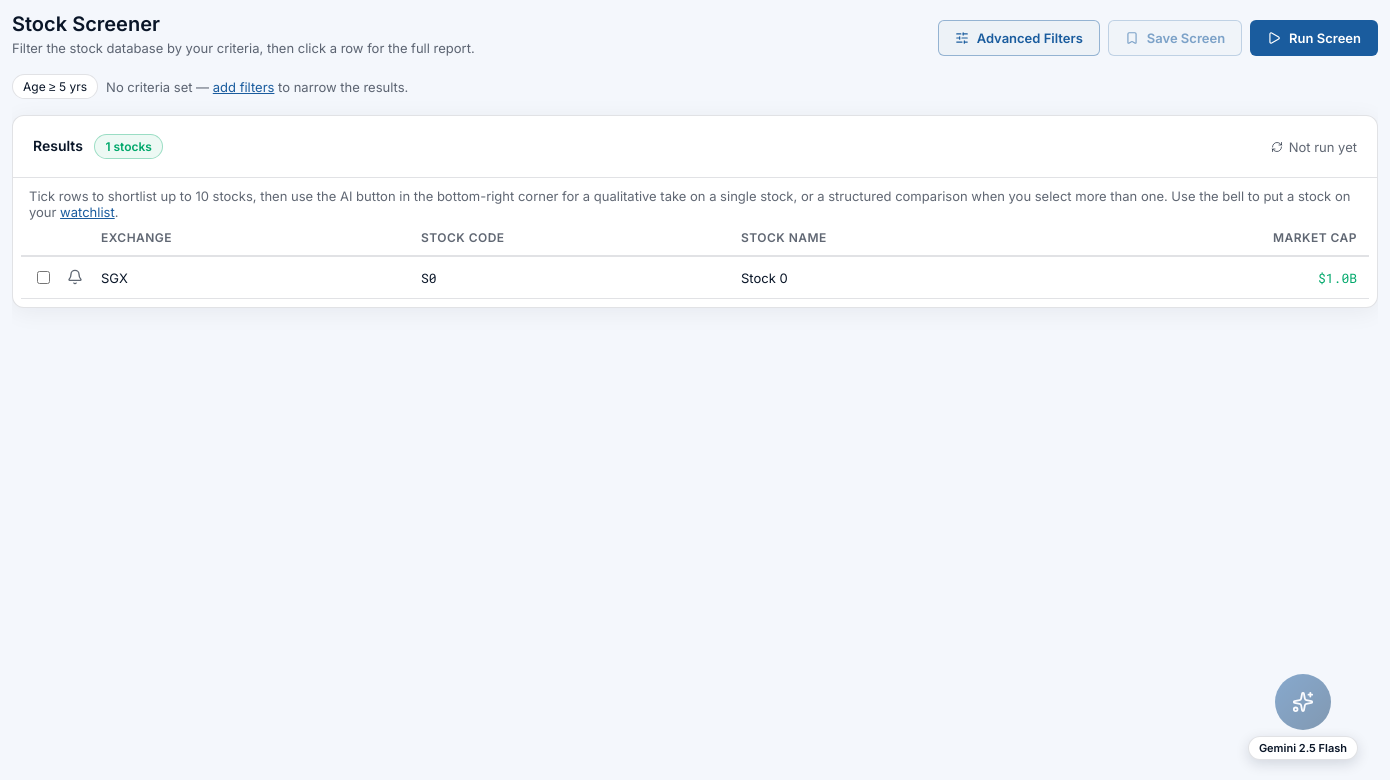
Screener - Analyze with AI › shows an inline error, preserving the message, when the AI request fails
The image size is (1390, 780).
Click the checkbox named "Select Stock 0" at (44, 278), box [37, 271, 50, 284]
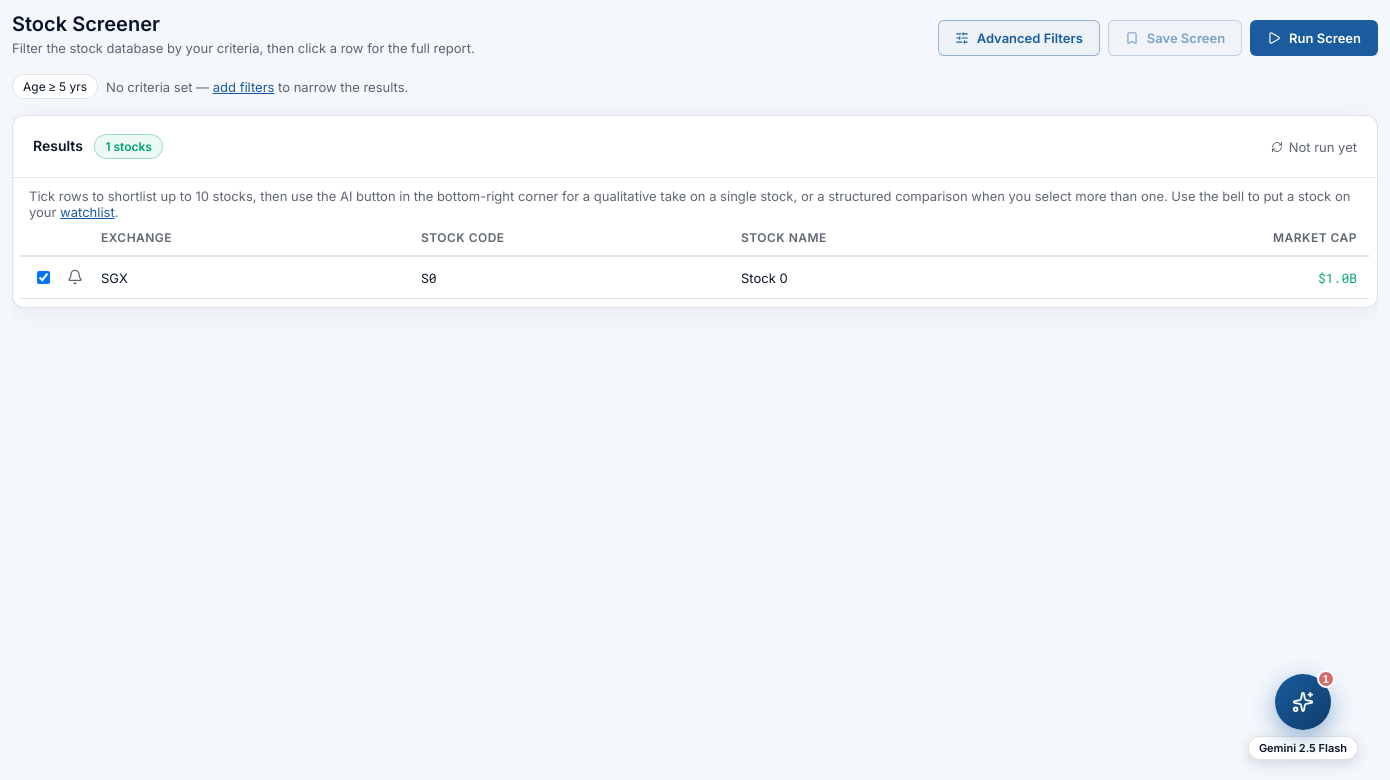
Click the button named "analyze 1 selected stock with ai" at (1303, 702), box [1275, 674, 1331, 730]
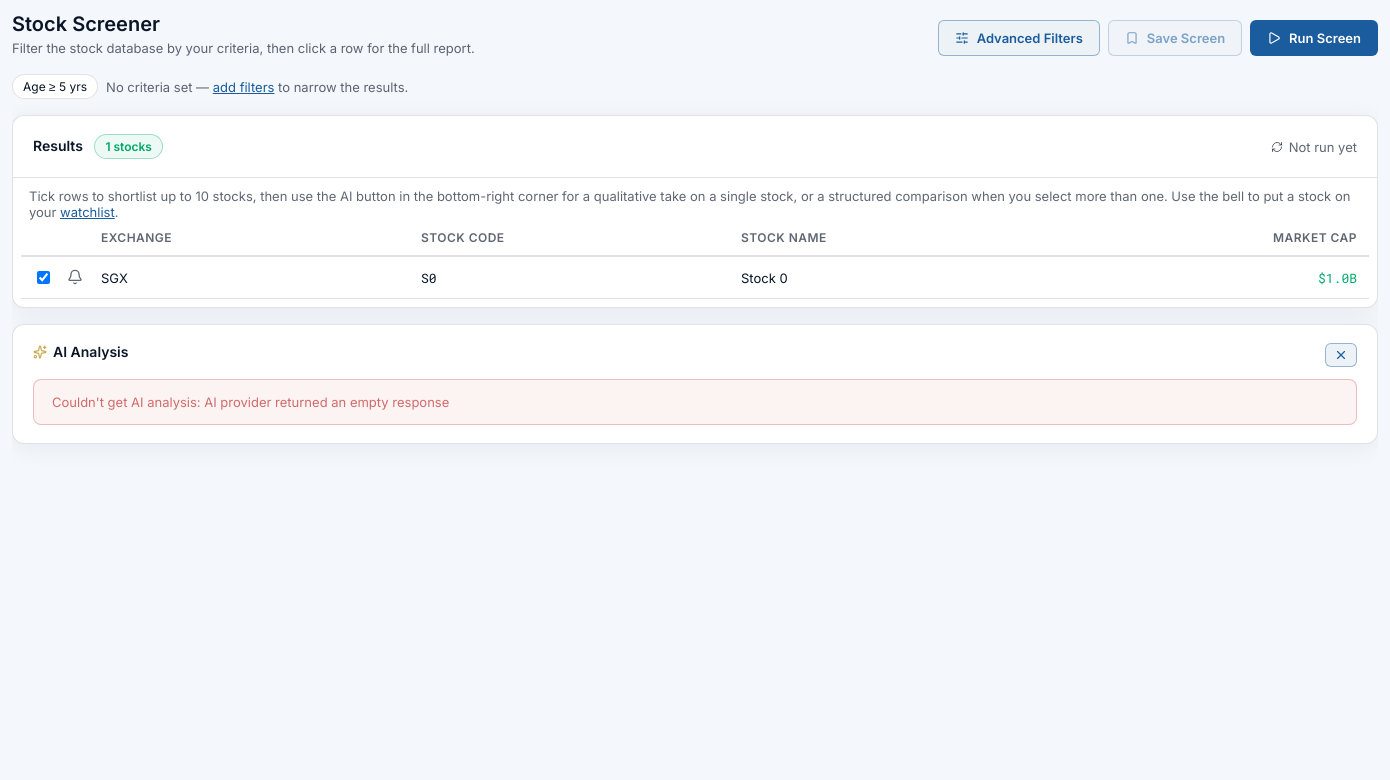
Now the text "Couldn't get AI analysis" is shown, box [52, 394, 204, 410]
Now the text "AI provider returned an empty response" is shown, box [204, 394, 449, 410]
